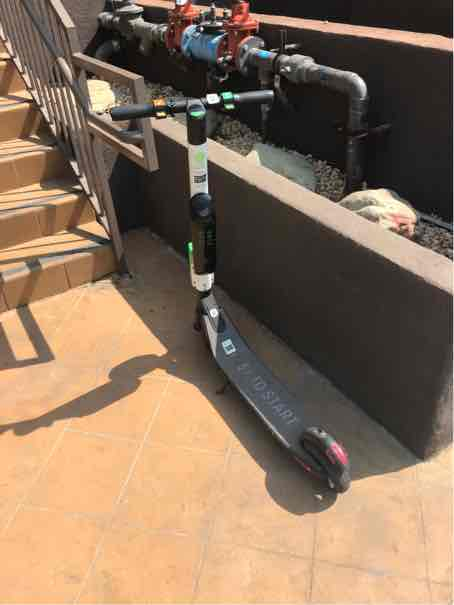scooter: (108, 77, 374, 503)
